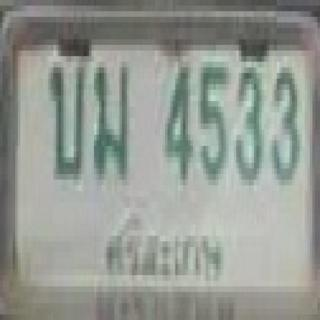A26: (43, 60, 86, 183)
A33: (88, 62, 141, 184)
N03: (268, 60, 304, 187), (232, 61, 265, 185)
N04: (157, 58, 195, 184)
N05: (196, 56, 232, 186)
P63: (100, 212, 227, 280)
